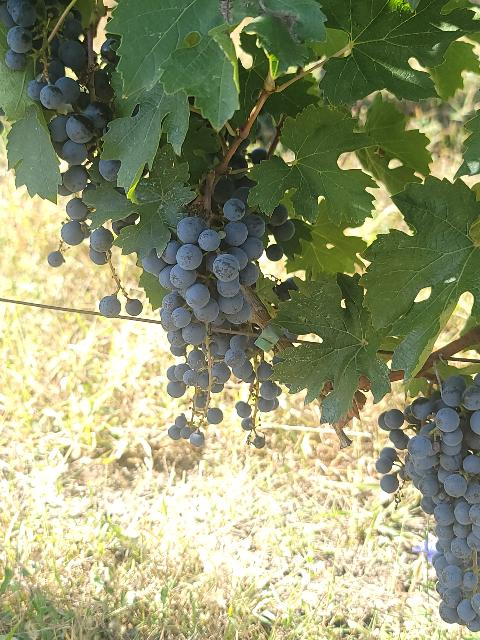grapes: (375, 372, 480, 631), (142, 191, 265, 331)
